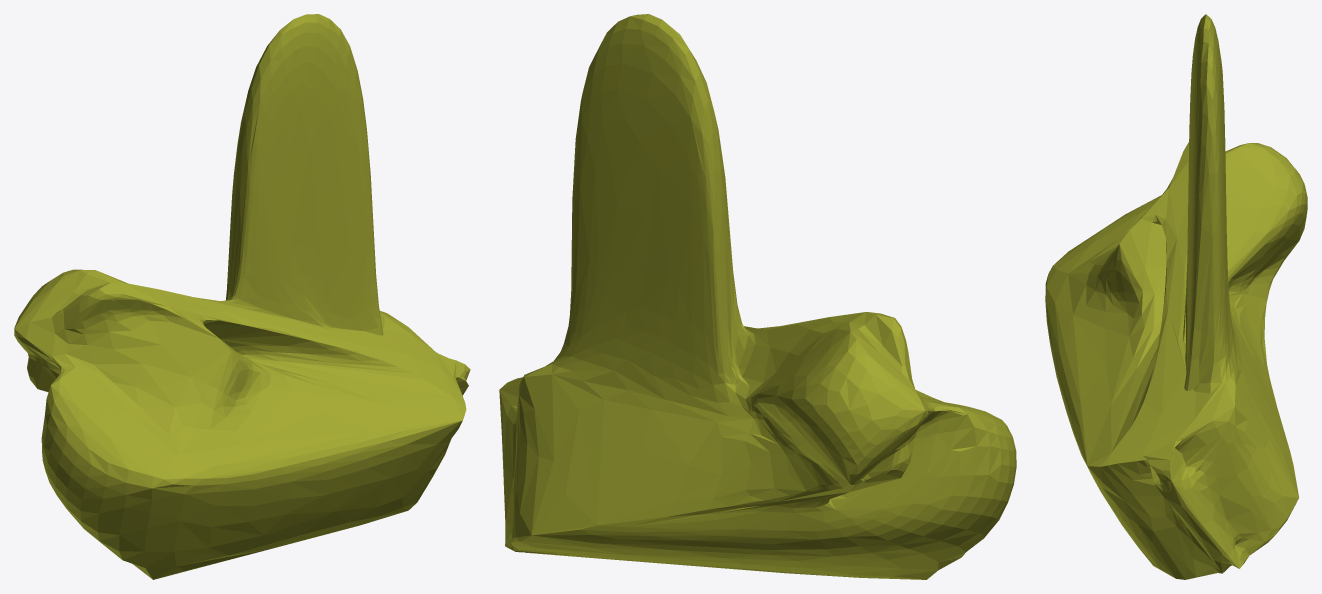
3 views of the same model, side by side, from view 1: azimuth 30°, elevation 25°; view 2: azimuth 150°, elevation 25°; view 3: azimuth 270°, elevation 25° (orthographic). The views are drawn at different scales.
Visible parts, largest first — view 1: 710_Cube.2854; view 2: 710_Cube.2854; view 3: 710_Cube.2854.
Boxes of the visible parts, box(x1,y1,x2,y2) form: 710_Cube.2854: box(14, 14, 470, 579); 710_Cube.2854: box(499, 14, 1016, 579); 710_Cube.2854: box(1045, 14, 1307, 579).
Size of the model in its own units: 12.78 by 14.17 by 6.56.
